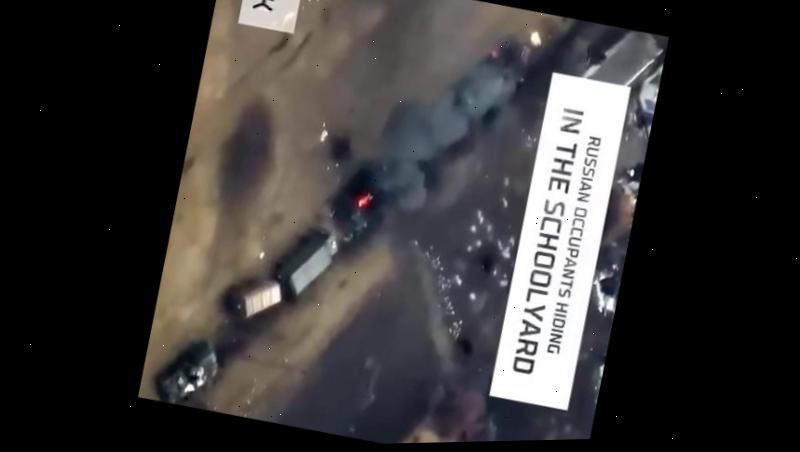tank: (150, 333, 224, 412)
truck: (219, 210, 346, 337)
